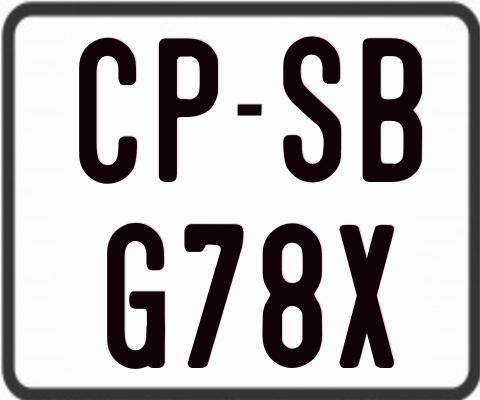7: (181, 224, 240, 370)
8: (262, 222, 324, 370)
B: (361, 37, 424, 181)
C: (77, 37, 136, 185)
G: (105, 220, 169, 366)
P: (157, 38, 222, 186)
S: (282, 35, 342, 182)
X: (338, 222, 398, 368)
